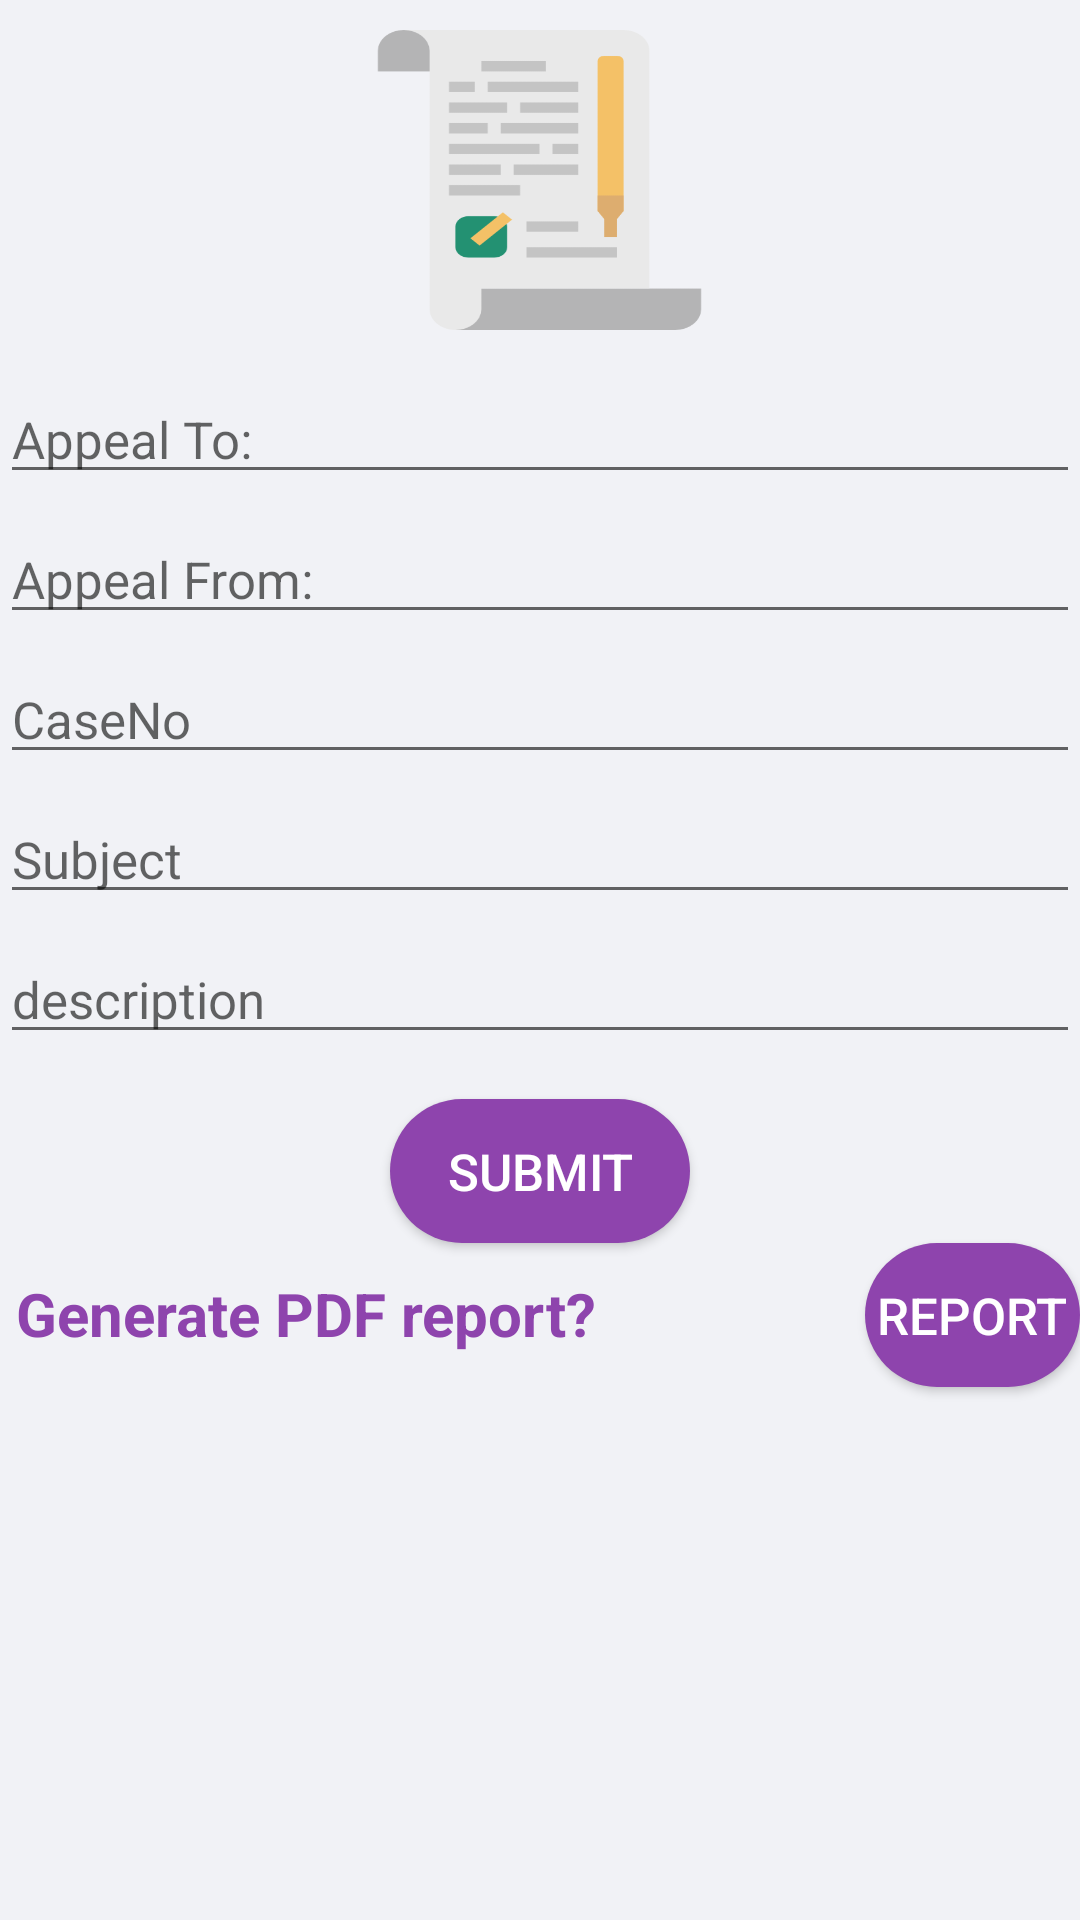

Named icons in this screenshot (1080w x 1920h) and their bounding boxes, (x1, y1, x2, y2):
appeal form: (377, 30, 702, 330)
